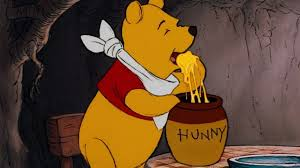Winnie: (116, 1, 192, 113)
